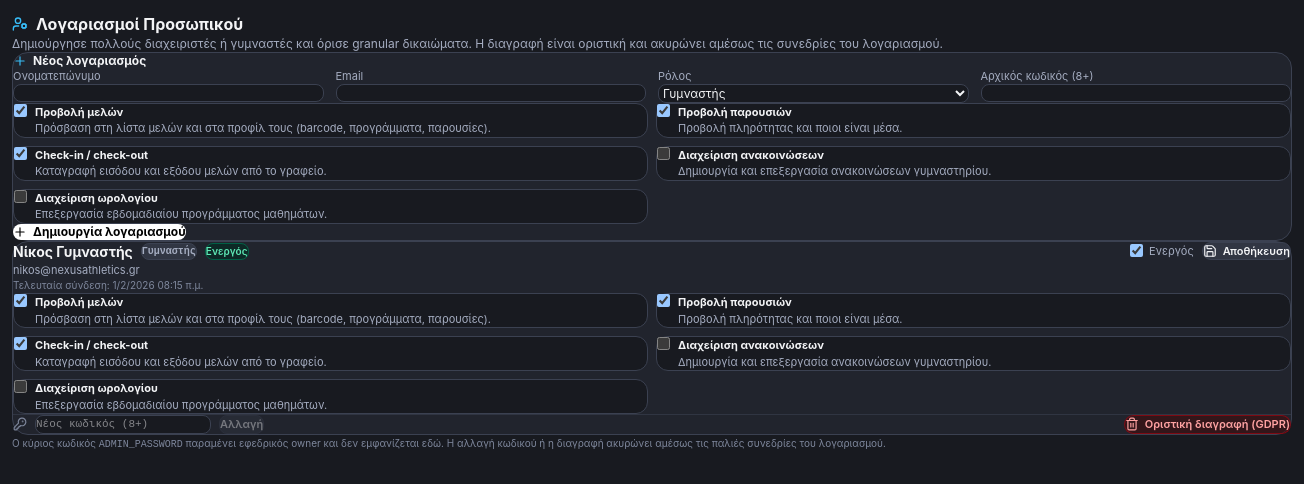
Test: StaffTab (staff accounts and permissions) › deletes an account only after the irreversible-deletion warning is accepted
Expected: the text "Νίκος Γυμναστής" is shown, x1=13 y1=242 x2=133 y2=262
Step 1. Click the button "Οριστική διαγραφή (GDPR)" → (1207, 424), box x1=1124 y1=415 x2=1291 y2=434
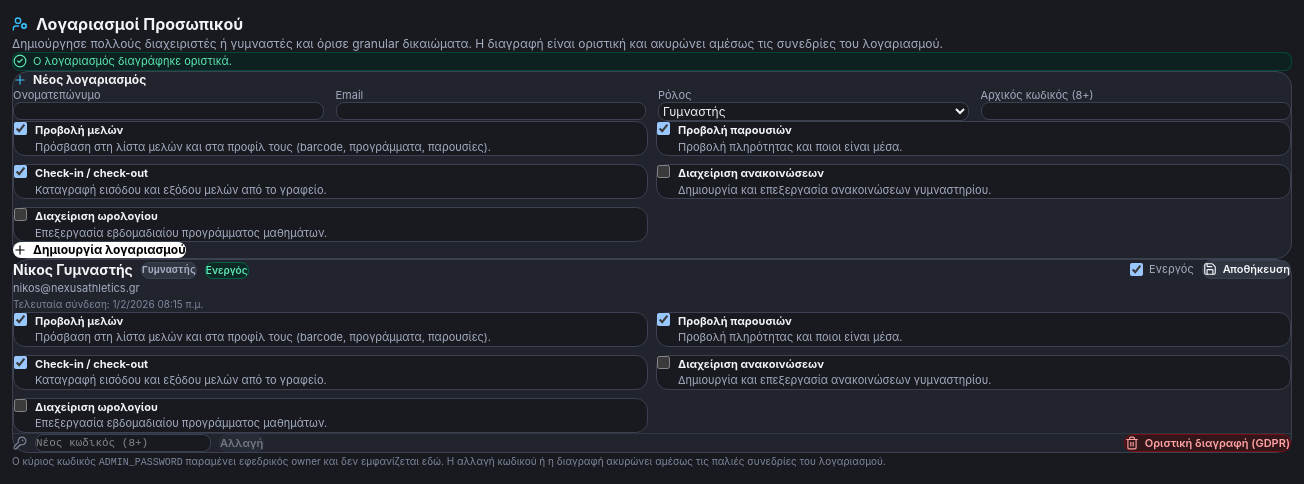
Expected: the text "Ο λογαριασμός διαγράφηκε οριστικά." is shown, x1=12 y1=52 x2=1292 y2=70
